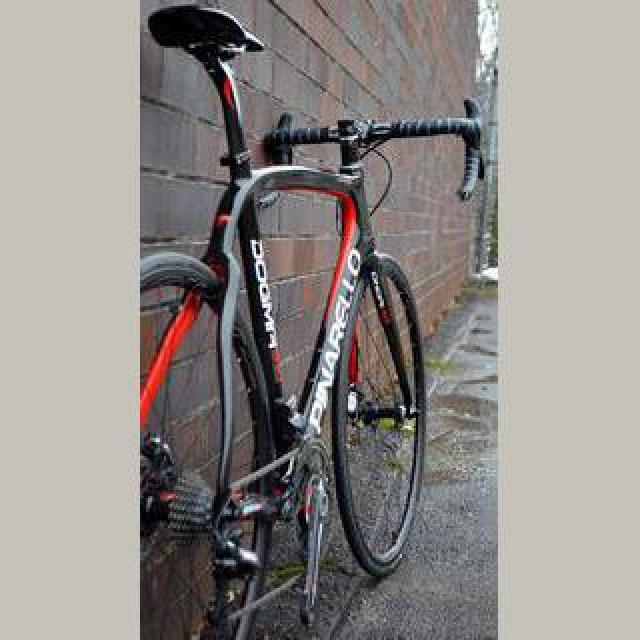Person: (140, 2, 484, 640)
